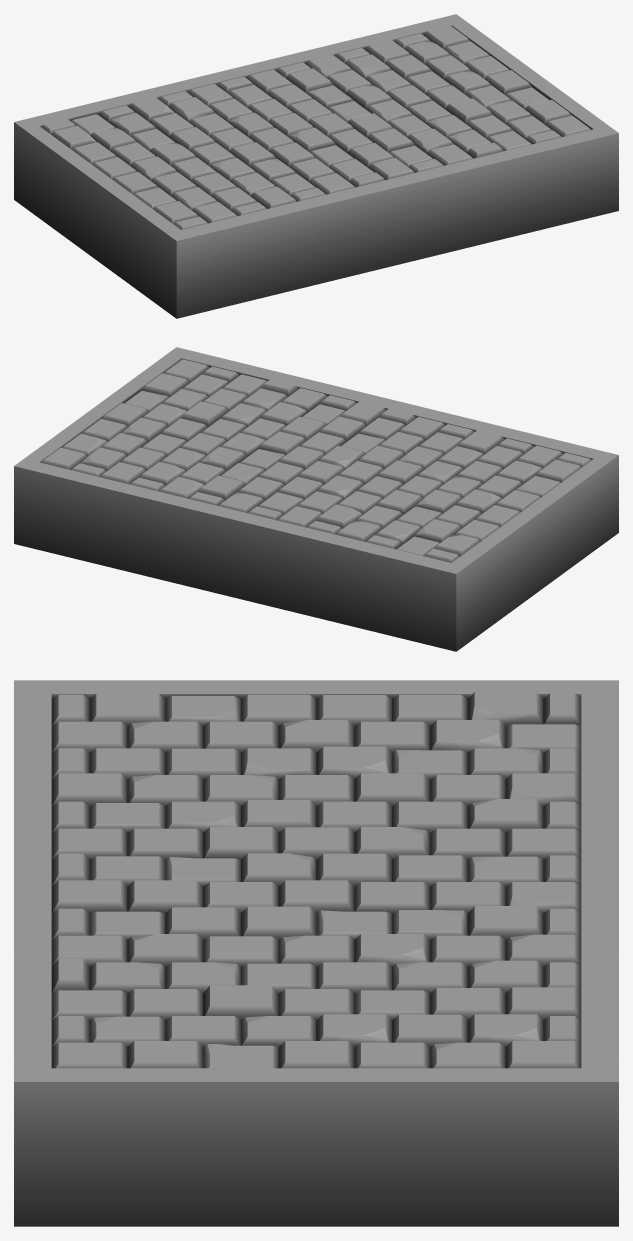
The picture shows the model from 3 angles, top to bottom: view 1: azimuth 30°, elevation 25°; view 2: azimuth 150°, elevation 25°; view 3: azimuth 270°, elevation 25°; orthographic projection. The views are drawn at different scales.
Visible parts, largest first — view 1: Street; view 2: Street; view 3: Street.
Part boxes in pixels (x1=…): Street: x1=14, y1=14, x2=618, y2=318; Street: x1=14, y1=347, x2=618, y2=651; Street: x1=14, y1=680, x2=618, y2=1226.
Size of the model in its own units: 14.03 by 2.45 by 8.93.
1 material, 1 textured.
